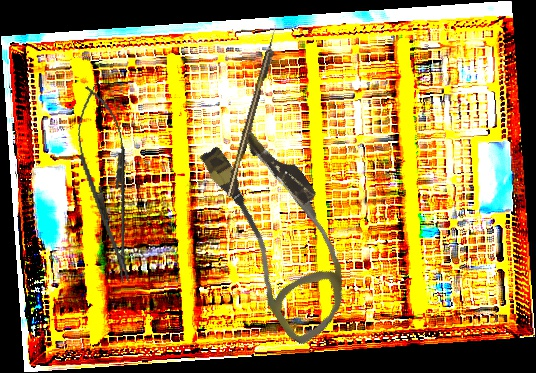Cannula: (177, 113, 383, 350)
Hook Surgical: (224, 23, 282, 198)
Needle Holder: (66, 81, 149, 289)
